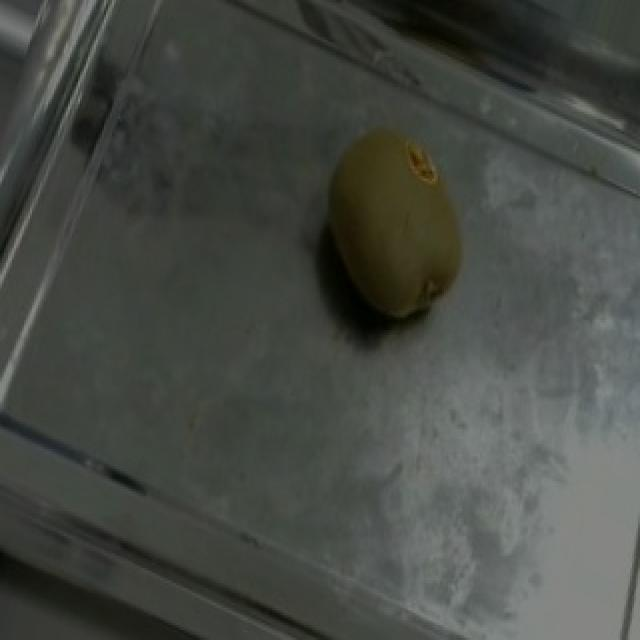Fruit: (282, 97, 506, 357), (0, 0, 72, 89)
